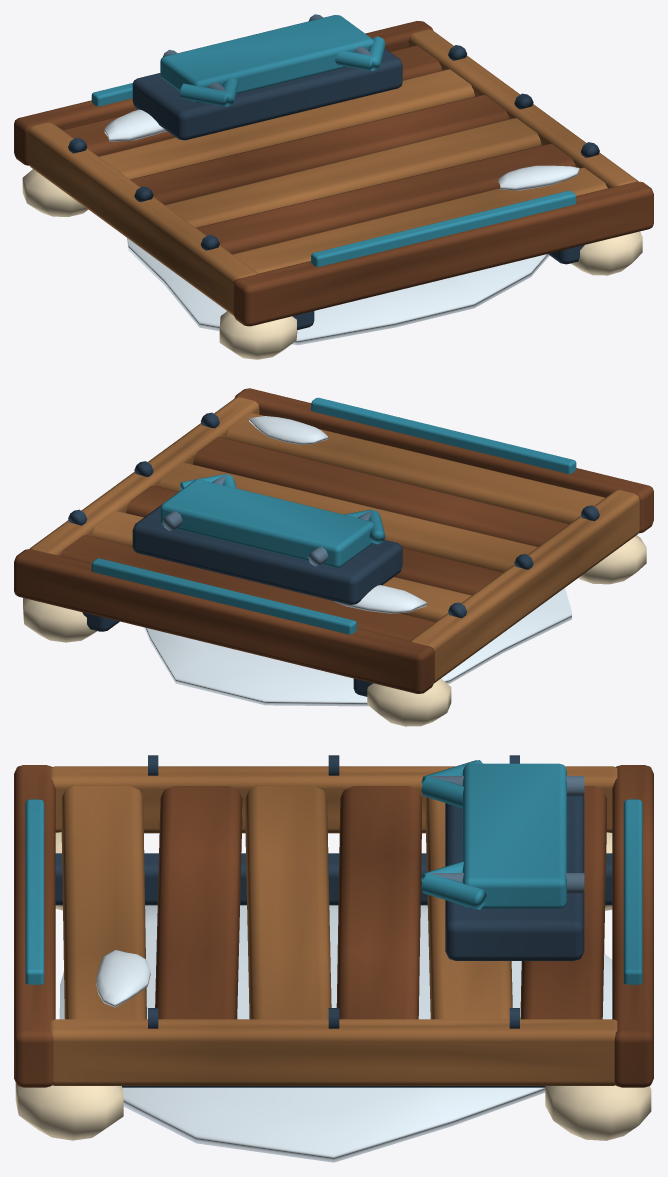
The model's file is pad_input.glb.
3 renders of one model, top to bottom at view 1: azimuth 30°, elevation 25°; view 2: azimuth 150°, elevation 25°; view 3: azimuth 270°, elevation 25°, orthographic. The views are drawn at different scales.
Parts seen in each view (by area): view 1: pad_input; view 2: pad_input; view 3: pad_input.
Part boxes in pixels (x1=…): pad_input: x1=14, y1=14, x2=653, y2=359; pad_input: x1=14, y1=388, x2=653, y2=726; pad_input: x1=14, y1=755, x2=653, y2=1162.
Size of the model in its own units: 1.91 by 0.6755 by 1.84.
